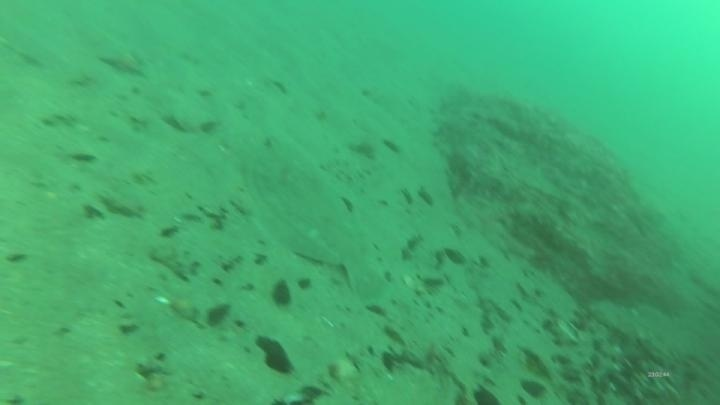starfish: (96, 46, 150, 80)
